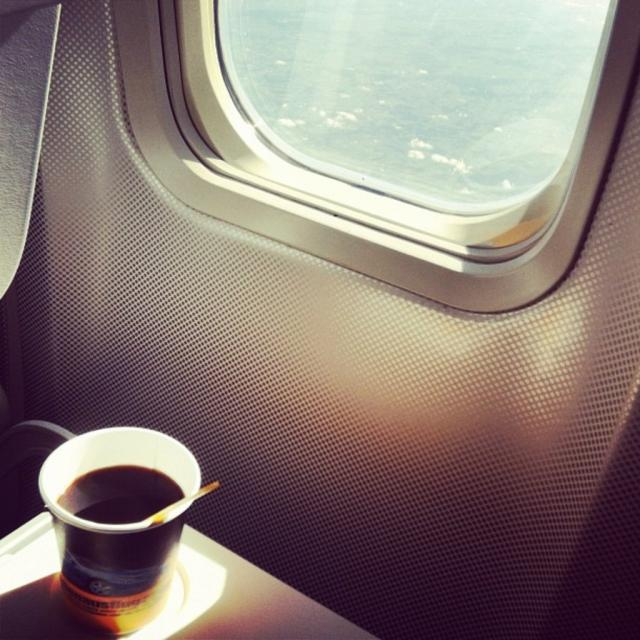Coffee: (54, 466, 180, 525)
Tea: (53, 463, 185, 523)
